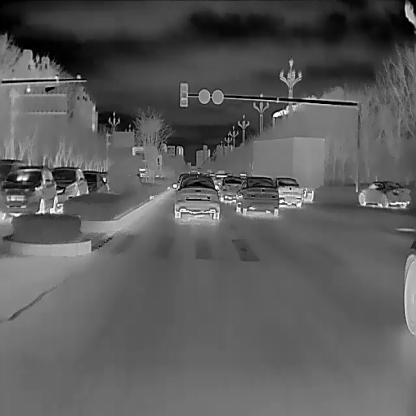car: (250, 138, 325, 202), (0, 167, 55, 212), (171, 173, 219, 220), (237, 176, 278, 217), (49, 166, 89, 207), (358, 180, 410, 208), (132, 146, 161, 178), (273, 176, 300, 208), (81, 171, 108, 201), (219, 176, 243, 202), (1, 157, 24, 182)
